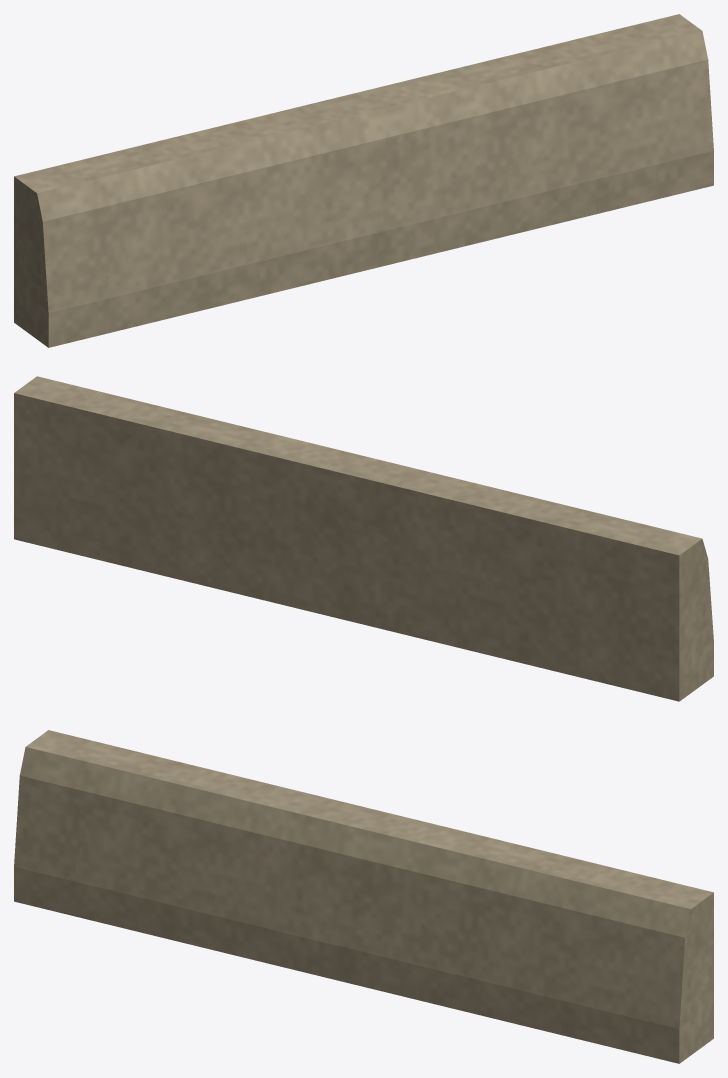
Rendered from sandstone-plinth.lod1.glb.
3 renders of one model, top to bottom at view 1: azimuth 30°, elevation 25°; view 2: azimuth 150°, elevation 25°; view 3: azimuth 330°, elevation 25°, orthographic.
Visible parts, largest first — view 1: sandstone-plinth; view 2: sandstone-plinth; view 3: sandstone-plinth.
Boxes of the visible parts, x1,y1,x2,y2 form: sandstone-plinth: (14,14,713,347); sandstone-plinth: (14,376,713,701); sandstone-plinth: (14,730,713,1063).
Size of the model in its own units: 2 by 0.42 by 0.18.
Materials: 1 (1 with a texture image).
